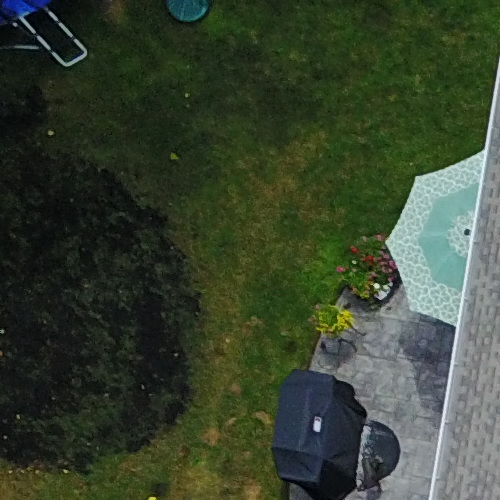umbrella: (367, 130, 483, 347)
